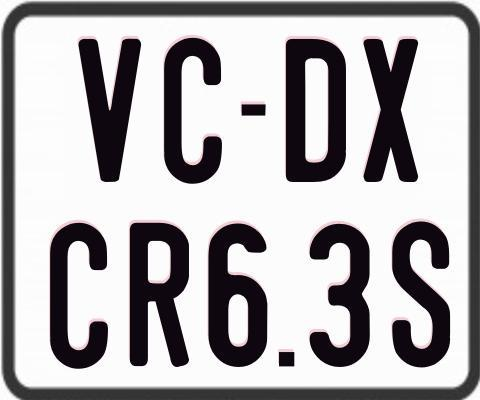3: (309, 222, 371, 368)
6: (206, 220, 268, 368)
C: (48, 221, 111, 372), (162, 35, 221, 182)
D: (283, 37, 346, 180)
R: (128, 220, 192, 366)
S: (389, 219, 452, 371)
V: (75, 37, 144, 184)
X: (360, 39, 416, 182)
